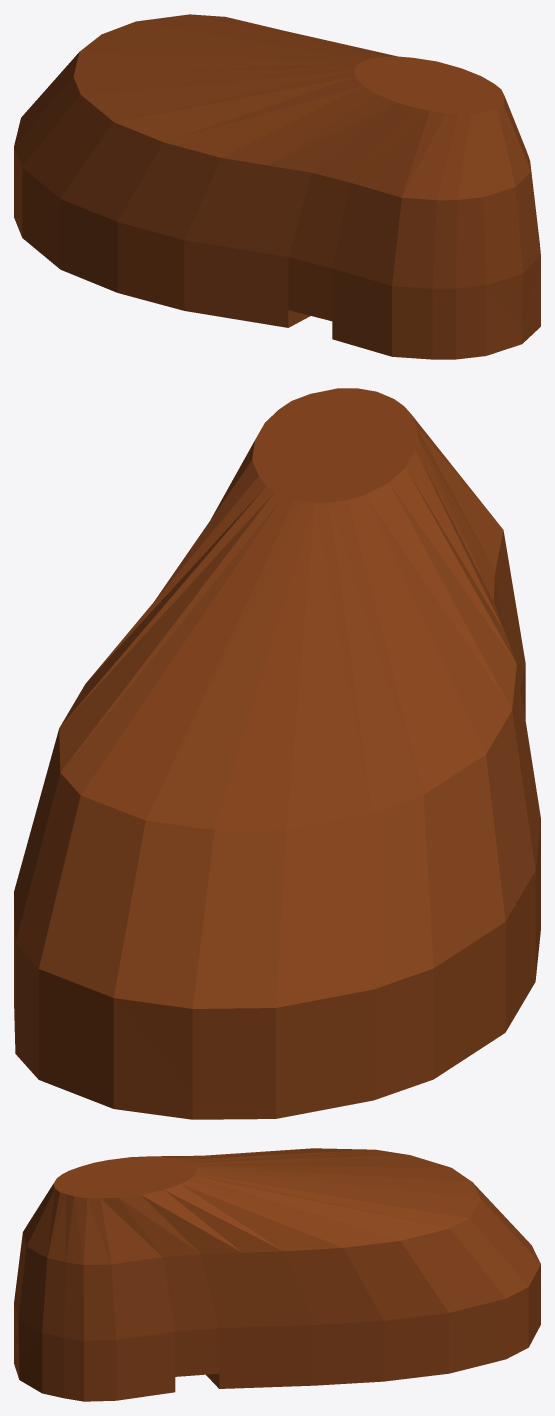
File: player_shoesL.obj
3 renders of one model, top to bottom at view 1: azimuth 30°, elevation 25°; view 2: azimuth 150°, elevation 25°; view 3: azimuth 270°, elevation 25°, orthographic. The views are drawn at different scales.
Parts seen in each view (by area): view 1: 左足_立方体.001; view 2: 左足_立方体.001; view 3: 左足_立方体.001.
Boxes of the visible parts, x1,y1,x2,y2 form: 左足_立方体.001: (14, 14, 540, 359); 左足_立方体.001: (14, 388, 540, 1119); 左足_立方体.001: (14, 1148, 540, 1401).
Size of the model in its own units: 1.46 by 0.9591 by 2.41.
Materials: 1 (1 with a texture image).
